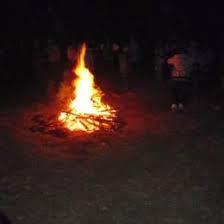fire: (55, 40, 116, 133)
